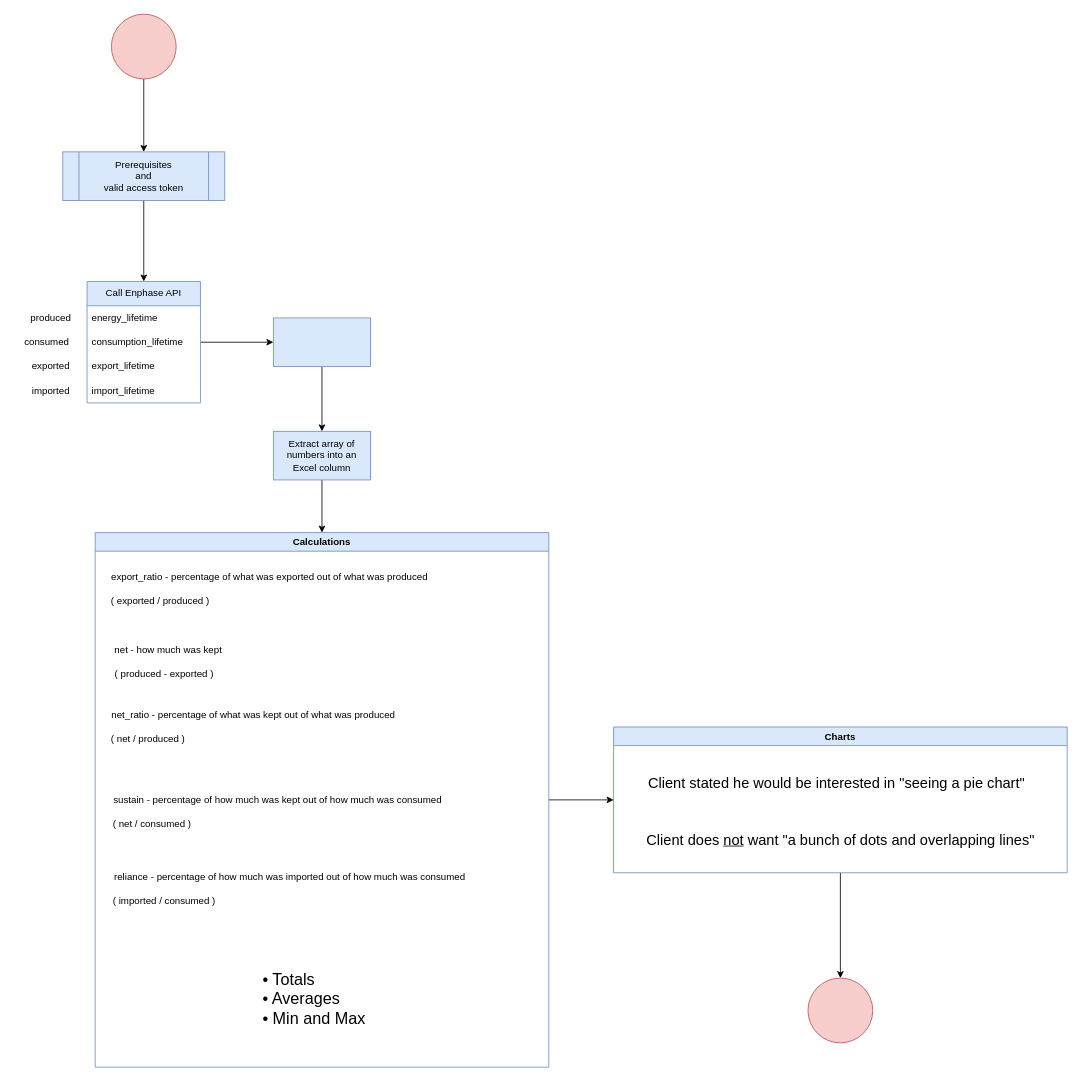
Some shapes in this 1081 by 1081 pixel diagram are drawn without their labels. The centre of each missing label's shape, as x and y in pixels:
End: (x=840, y=1010)
Record JSON responses: (x=322, y=342)
Start: (x=143, y=46)
